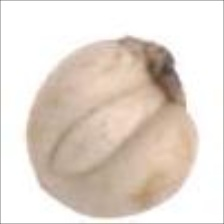L5: (48, 81, 171, 181), (120, 33, 191, 113), (34, 166, 81, 214)
L6: (21, 33, 204, 222)
